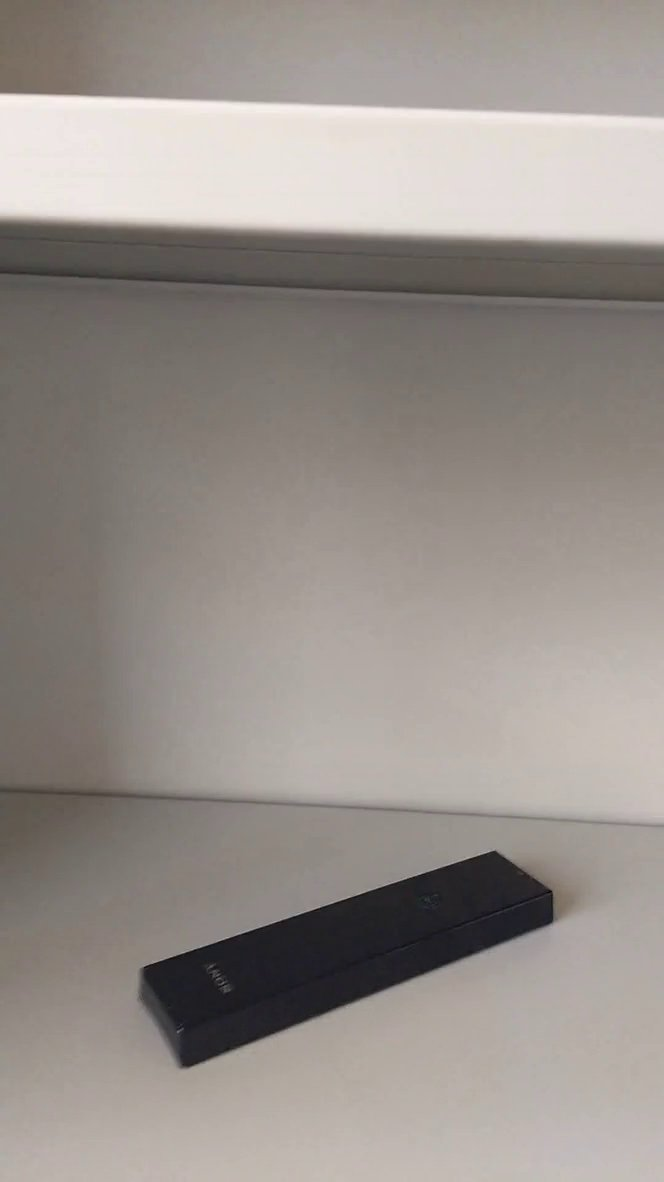remote: (131, 840, 573, 1080)
